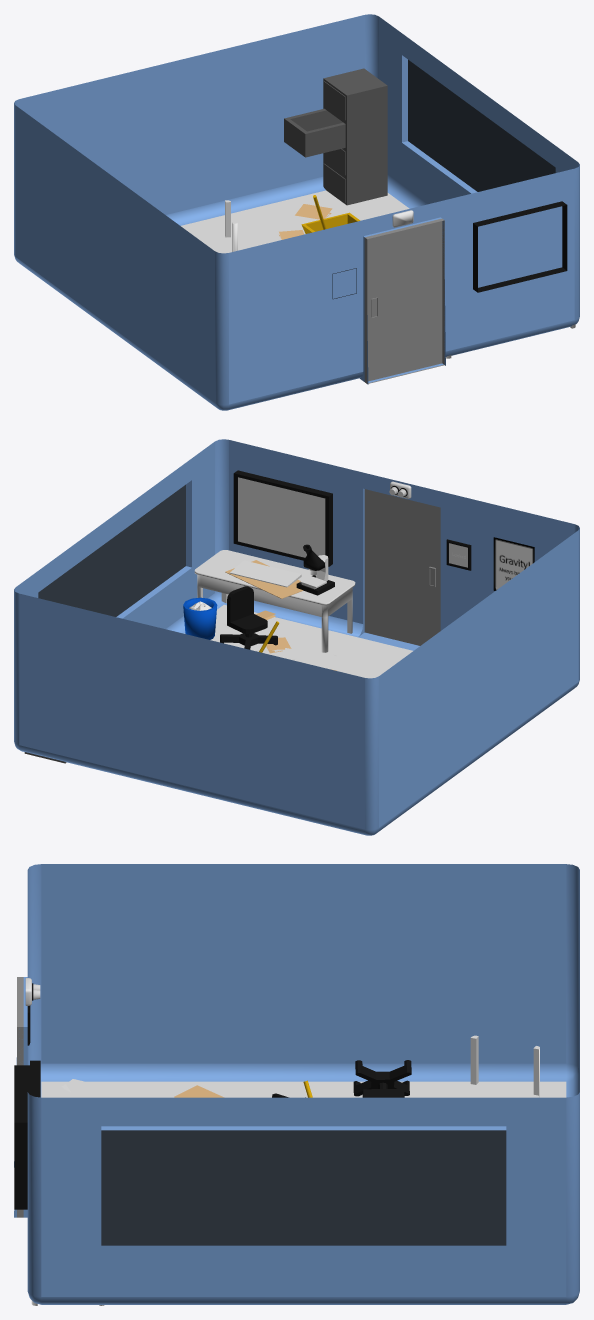
Rendered from FirstRoom.fbx.
3 views of the same model, one above another, from view 1: azimuth 30°, elevation 25°; view 2: azimuth 150°, elevation 25°; view 3: azimuth 270°, elevation 25° (orthographic). The views are drawn at different scales.
Parts seen in each view (by area): view 1: FirstRoom, Door, FilingCabinet, TV.001, Table, Bucket, FloorEnvelope; view 2: FirstRoom, Door, TV.001, Table.001, Chgair, Poister, TrashCan, Microscope, Keyboard.002, Keypad, Matt, FloorPaper; view 3: FirstRoom, TV.001, Chair, Table, Door.
Boxes of the visible parts, x1,y1,x2,y2 form: FirstRoom: (14,14,579,410); Door: (364,218,444,383); FilingCabinet: (284,68,387,205); TV.001: (473,201,567,292); Table: (196,200,237,253); Bucket: (301,195,360,233); FloorEnvelope: (279,204,332,239); FirstRoom: (14,439,579,835); Door: (364,489,440,645); TV.001: (233,470,332,566); Table.001: (194,550,355,652); Chgair: (220,586,277,649); Poister: (493,537,534,590); TrashCan: (183,597,217,639); Microscope: (296,544,334,595); Keyboard.002: (229,560,301,587); Keypad: (446,539,471,570); Matt: (225,560,303,598); FloorPaper: (215,622,336,661); FirstRoom: (14,864,579,1304); TV.001: (14,1060,40,1209); Chair: (353,1060,411,1097); Table: (458,1035,539,1097); Door: (17,977,23,1217).
Bounding box in the file's own units: 827 × 350 × 833.
